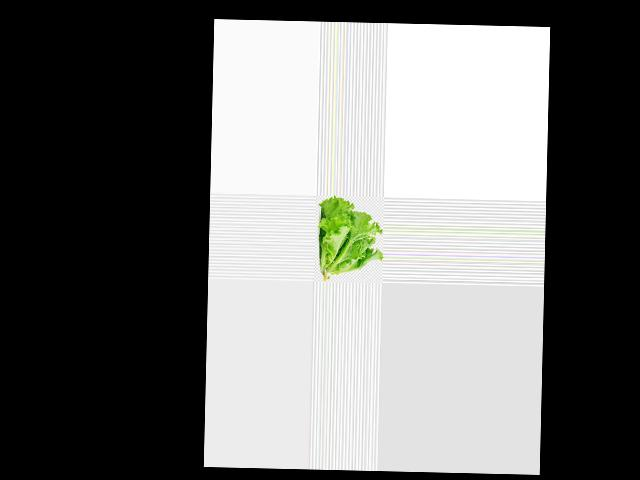lettuce: (319, 196, 383, 282)
